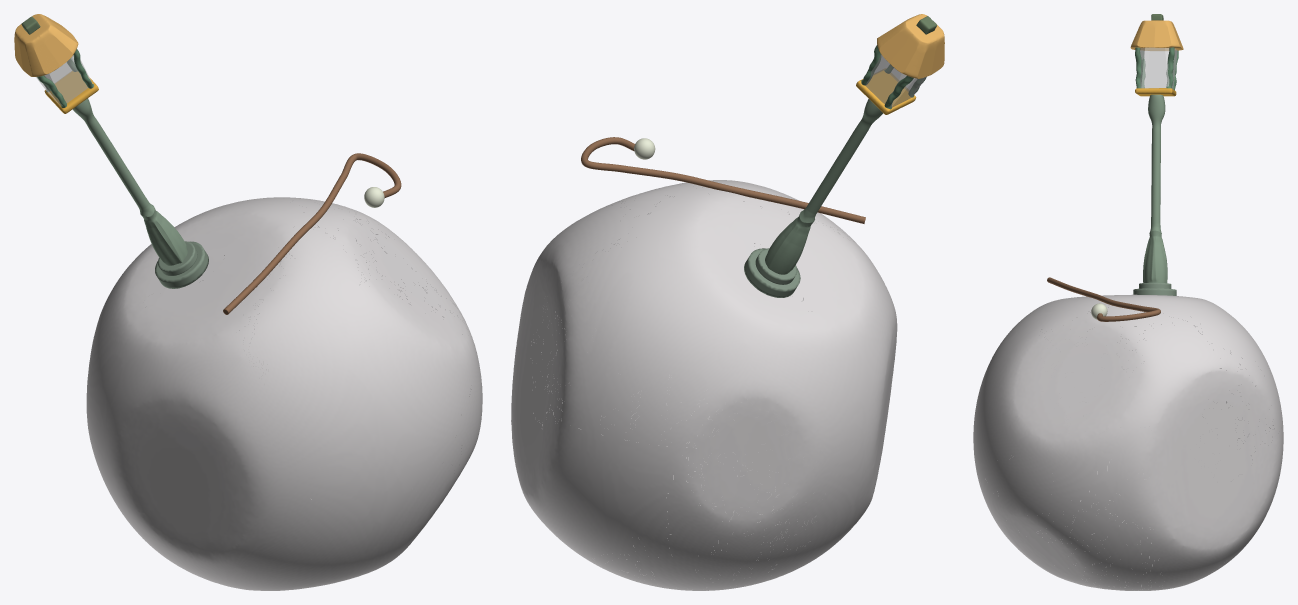
The model's file is planet_329_lamplighter.glb.
The picture shows the model from 3 angles, left to right: view 1: azimuth 30°, elevation 25°; view 2: azimuth 150°, elevation 25°; view 3: azimuth 270°, elevation 25°; orthographic projection. The views are drawn at different scales.
Visible parts, largest first — view 1: Object_7, Object_8, Object_6, Object_10, Object_12, Object_2, Object_3, Object_5, Object_11; view 2: Object_7, Object_8, Object_6, Object_10, Object_12, Object_2, Object_3, Object_5, Object_11; view 3: Object_7, Object_8, Object_6, Object_10, Object_3, Object_12, Object_11, Object_2.
Part boxes in pixels (x1=…): Object_7: x1=86, y1=197, x2=482, y2=590; Object_8: x1=87, y1=197, x2=481, y2=571; Object_6: x1=72, y1=98, x2=187, y2=265; Object_10: x1=14, y1=14, x2=78, y2=76; Object_12: x1=223, y1=153, x2=401, y2=314; Object_2: x1=155, y1=241, x2=208, y2=288; Object_3: x1=36, y1=55, x2=92, y2=105; Object_5: x1=44, y1=71, x2=98, y2=113; Object_11: x1=37, y1=49, x2=93, y2=107; Object_7: x1=519, y1=180, x2=897, y2=590; Object_8: x1=511, y1=184, x2=860, y2=590; Object_6: x1=765, y1=99, x2=883, y2=274; Object_10: x1=877, y1=14, x2=944, y2=78; Object_12: x1=581, y1=137, x2=865, y2=223; Object_2: x1=744, y1=248, x2=800, y2=297; Object_3: x1=865, y1=54, x2=926, y2=107; Object_5: x1=856, y1=70, x2=916, y2=114; Object_11: x1=861, y1=45, x2=926, y2=109; Object_7: x1=973, y1=294, x2=1282, y2=590; Object_8: x1=979, y1=297, x2=1283, y2=590; Object_6: x1=1143, y1=94, x2=1167, y2=283; Object_10: x1=1130, y1=20, x2=1183, y2=50; Object_3: x1=1140, y1=47, x2=1177, y2=88; Object_12: x1=1047, y1=277, x2=1160, y2=321; Object_11: x1=1135, y1=47, x2=1178, y2=90; Object_2: x1=1133, y1=282, x2=1176, y2=295.
Size of the model in its own units: 0.5587 by 0.7669 by 0.4565.
